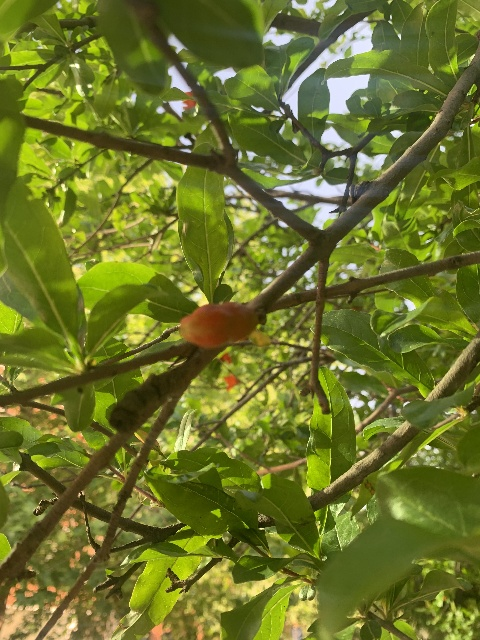bud: (180, 302, 256, 348)
flower: (223, 373, 238, 390)
